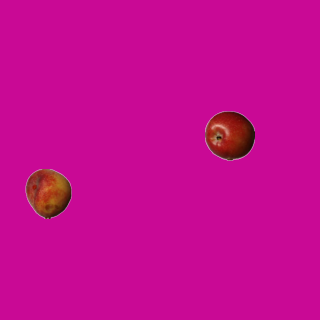Apple Braeburn: (204, 110, 254, 160)
Peach: (23, 168, 73, 218)
